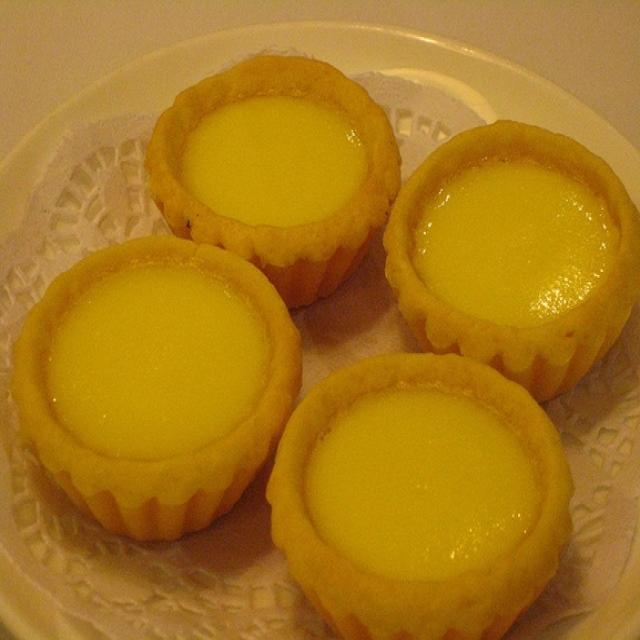炸货点心: (15, 21, 628, 628)
蛋糕甜品: (15, 21, 628, 628)
